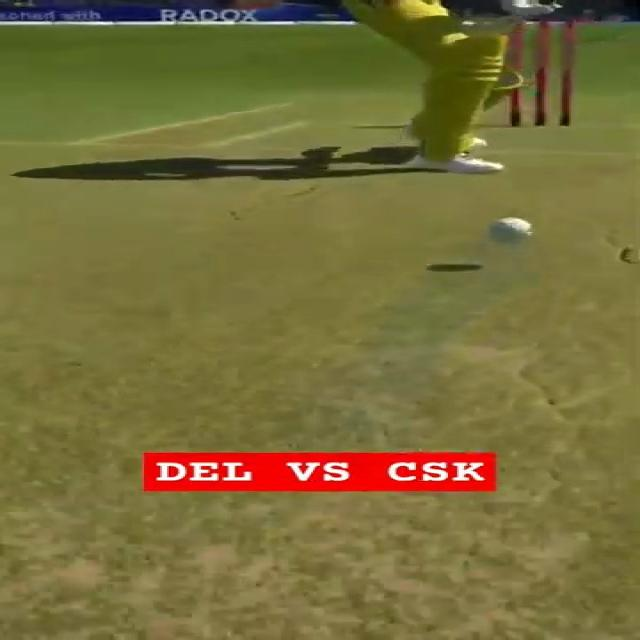ball: (484, 210, 537, 245)
